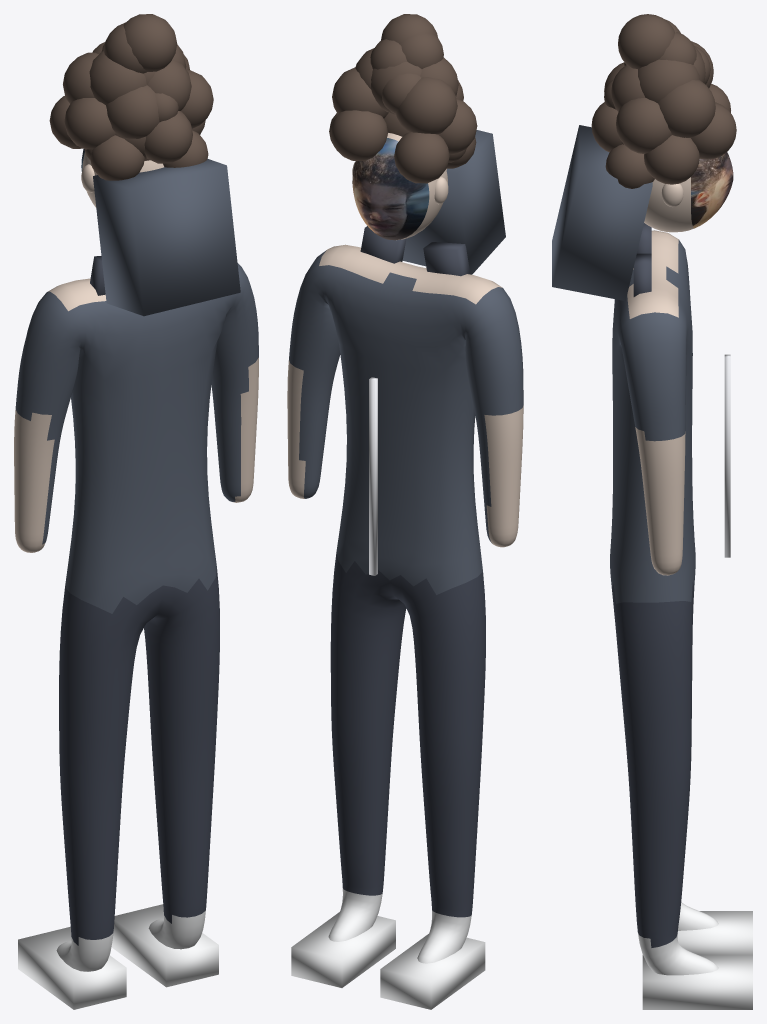
The model's file is chase.glb.
The picture shows the model from 3 angles, left to right: view 1: azimuth 30°, elevation 25°; view 2: azimuth 150°, elevation 25°; view 3: azimuth 270°, elevation 25°; orthographic projection. The views are drawn at different scales.
Visible parts, largest first — view 1: ChasePrototype; view 2: ChasePrototype; view 3: ChasePrototype.
Part boxes in pixels (left/top/right/bottom): ChasePrototype: left=14, top=14, right=258, bottom=1009; ChasePrototype: left=287, top=14, right=523, bottom=1009; ChasePrototype: left=552, top=14, right=752, bottom=1009.
Size of the model in its own units: 0.5385 by 2.11 by 0.4004.
Materials: 8 (1 with a texture image).
